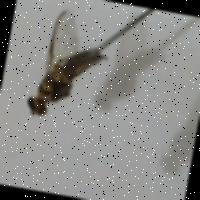Oriental-fruit-fly: (7, 0, 121, 147)
